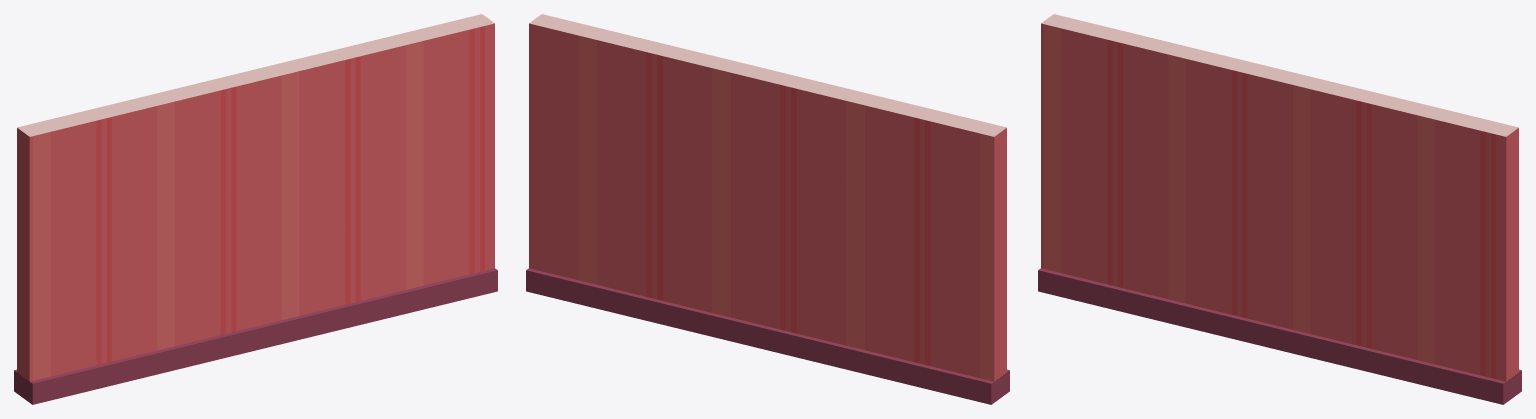
The model's file is Map_bs_Wallside2_geo.fbx.
The picture shows the model from 3 angles, left to right: view 1: azimuth 30°, elevation 25°; view 2: azimuth 150°, elevation 25°; view 3: azimuth 330°, elevation 25°; orthographic projection.
Visible parts, largest first — view 1: Map_bs_Wallside2_geo; view 2: Map_bs_Wallside2_geo; view 3: Map_bs_Wallside2_geo.
Part boxes in pixels (bbox=[...]): Map_bs_Wallside2_geo: bbox=[14, 14, 497, 404]; Map_bs_Wallside2_geo: bbox=[526, 14, 1009, 404]; Map_bs_Wallside2_geo: bbox=[1038, 14, 1521, 404].
Size of the model in its own units: 3.73 by 0.2564 by 2.04.
